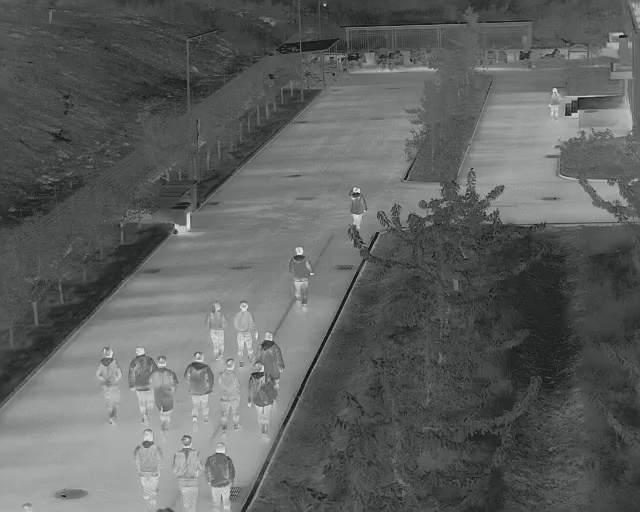person: (132, 428, 164, 511), (94, 346, 124, 432), (172, 434, 205, 512), (245, 363, 278, 440), (184, 350, 214, 427), (149, 356, 179, 432), (205, 443, 237, 512), (218, 358, 245, 434), (128, 345, 153, 425), (287, 246, 313, 311), (232, 301, 258, 364), (204, 299, 230, 361), (257, 331, 286, 379), (348, 185, 367, 234), (548, 86, 562, 120)
